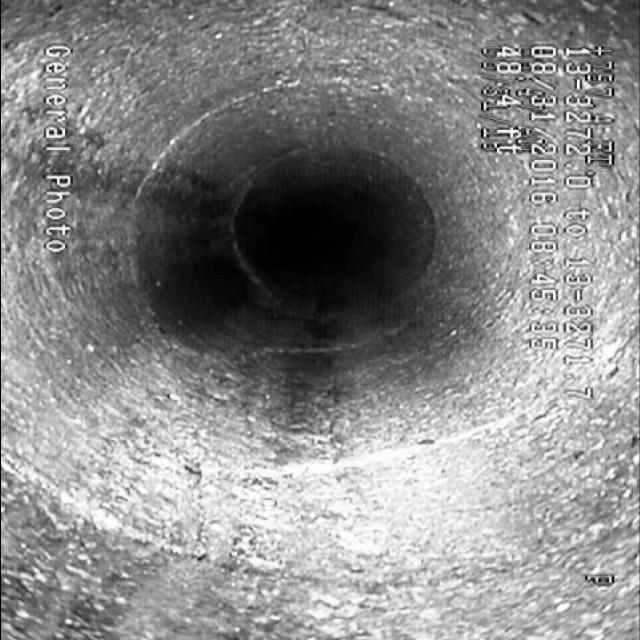Crack: (154, 384, 242, 564)
